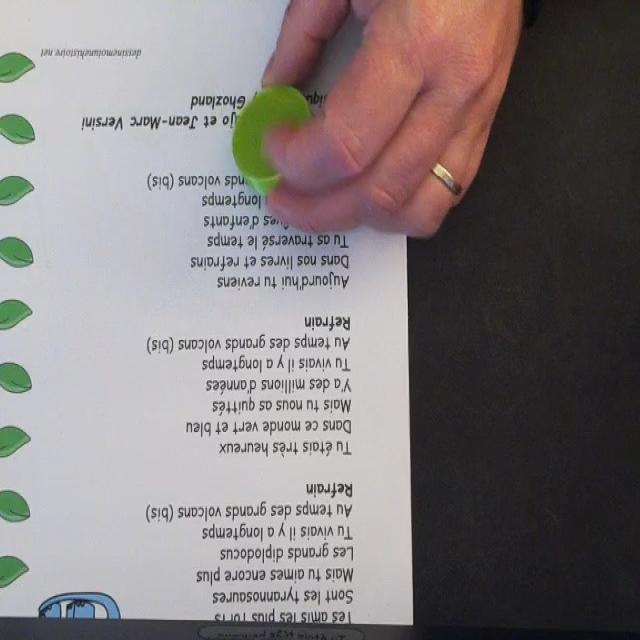round: (231, 86, 315, 196)
